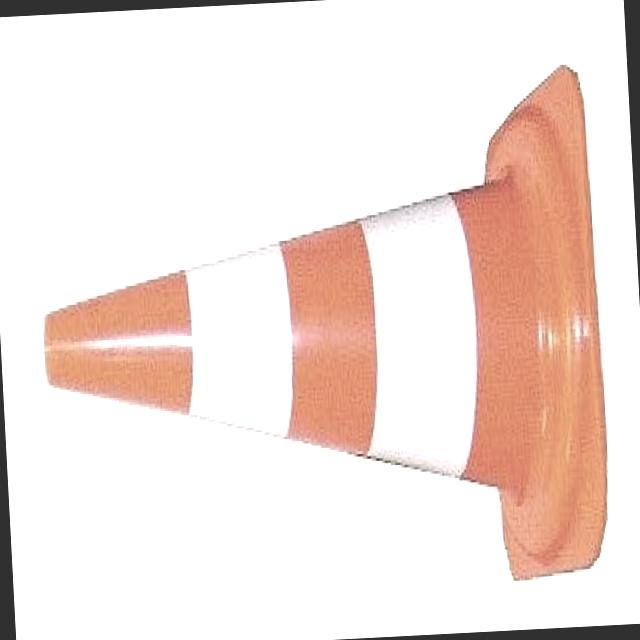cone: (46, 57, 612, 595)
